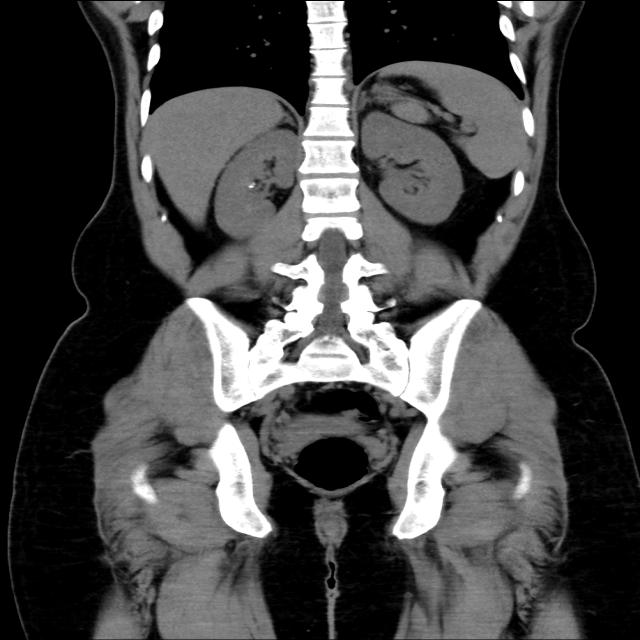kidneystone: (248, 182, 254, 189)
